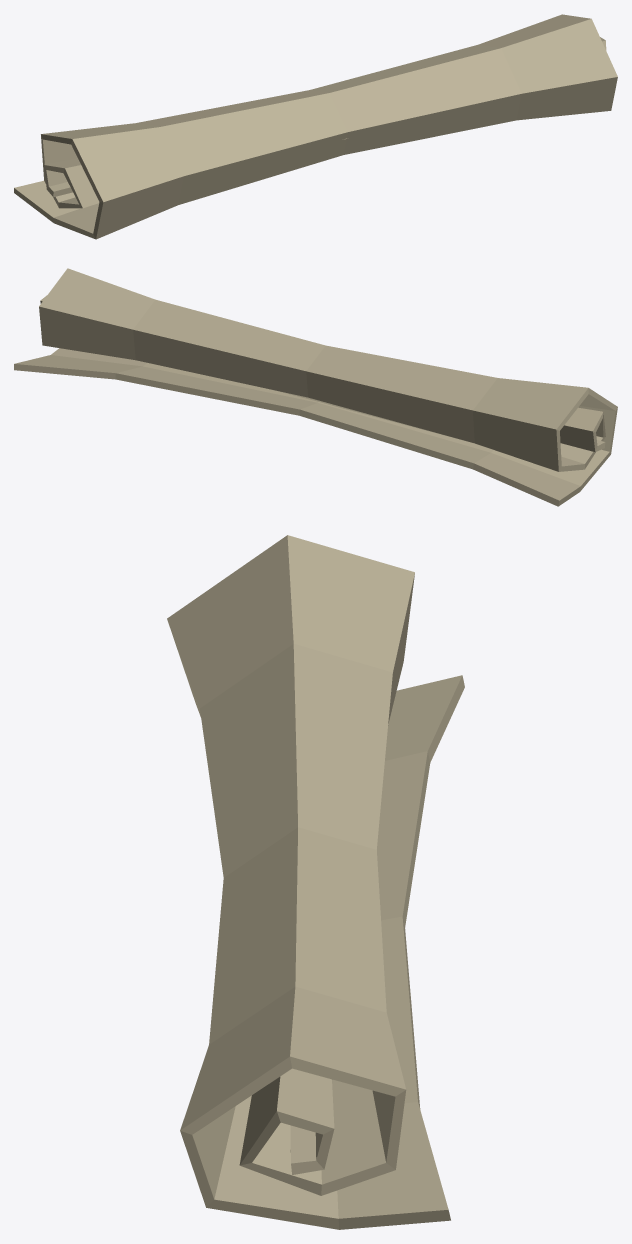
File: Scroll_Small.glb
The picture shows the model from 3 angles, top to bottom: view 1: azimuth 30°, elevation 25°; view 2: azimuth 150°, elevation 25°; view 3: azimuth 270°, elevation 25°; orthographic projection. The views are drawn at different scales.
Visible parts, largest first — view 1: Scroll_Small; view 2: Scroll_Small; view 3: Scroll_Small.
Part boxes in pixels (left/top/right/bottom): Scroll_Small: left=14, top=14, right=617, bottom=239; Scroll_Small: left=14, top=268, right=617, bottom=506; Scroll_Small: left=167, top=535, right=464, bottom=1229.
Bounding box in the file's own units: 0.4955 × 0.0792 × 0.115.
1 material, 1 textured.
